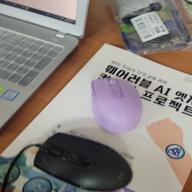mouse: (34, 131, 136, 192), (92, 75, 143, 133)
